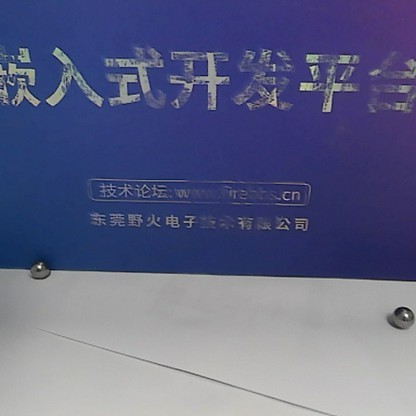ironball: (389, 303, 414, 329), (29, 255, 50, 283)
